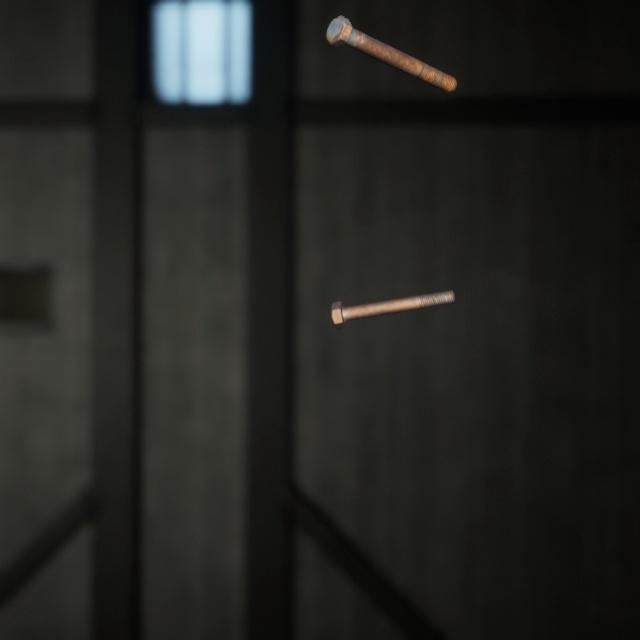bolt: (321, 2, 461, 88), (326, 269, 460, 317)
